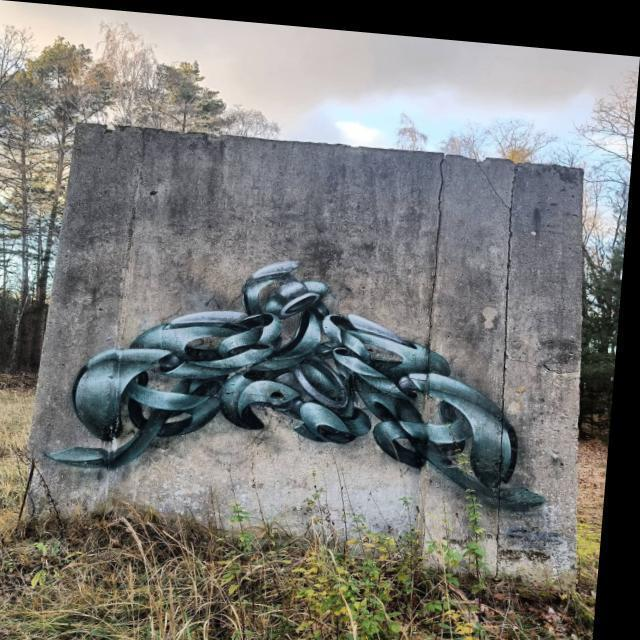nonspitting: (39, 262, 548, 517)
